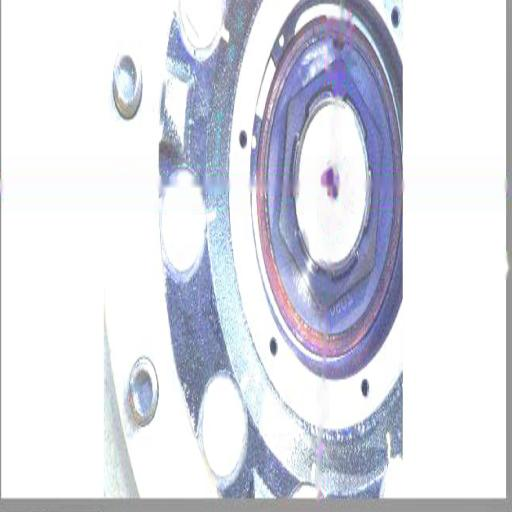center: (319, 161, 337, 194)
notch: (328, 28, 348, 60)
